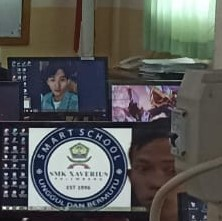monitor: (0, 120, 149, 215), (7, 56, 111, 122), (108, 80, 182, 123)
